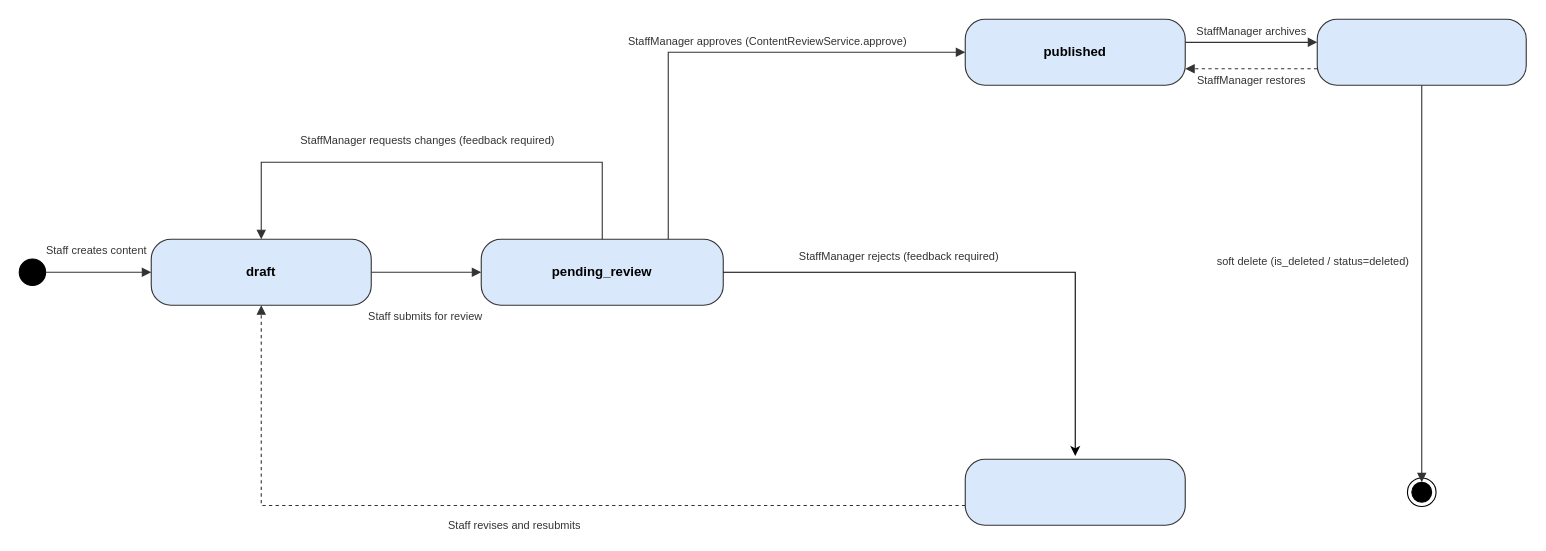
The diagram is 1546 pixels wide and 551 high, and some of its shapes have lost their labels. The shapes that lost their labels are listed below. From the top down, each one's centre as x and y in pixels, then its label:
point 1421,51: archived
point 1074,491: rejected
